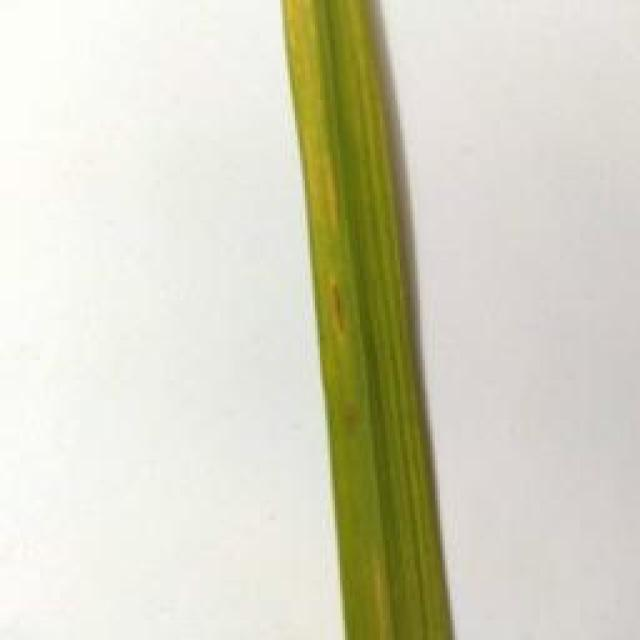Bacterial_Blight: (345, 0, 421, 264), (274, 0, 353, 232), (361, 548, 403, 640)
Brown_Spot: (326, 278, 352, 349)
